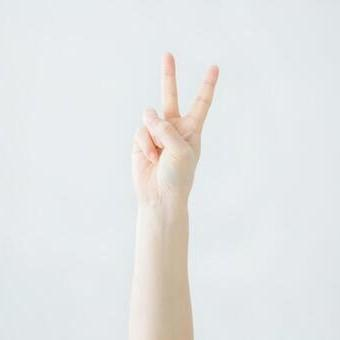tyoki: (130, 52, 220, 197)
